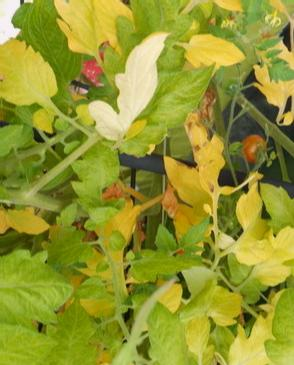Tomato leaf yellow virus: (160, 109, 231, 216), (0, 242, 77, 329), (0, 31, 62, 110), (258, 276, 294, 357), (179, 27, 246, 68)
